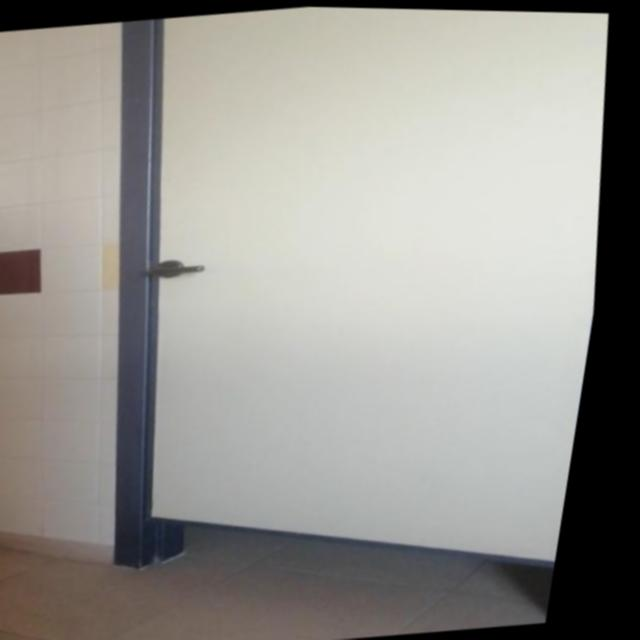door_handle: (149, 259, 218, 279)
